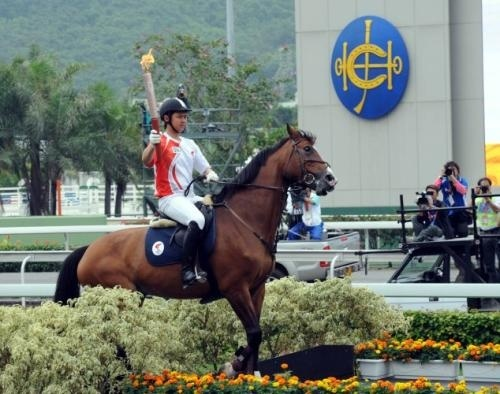fire: (138, 45, 155, 71)
